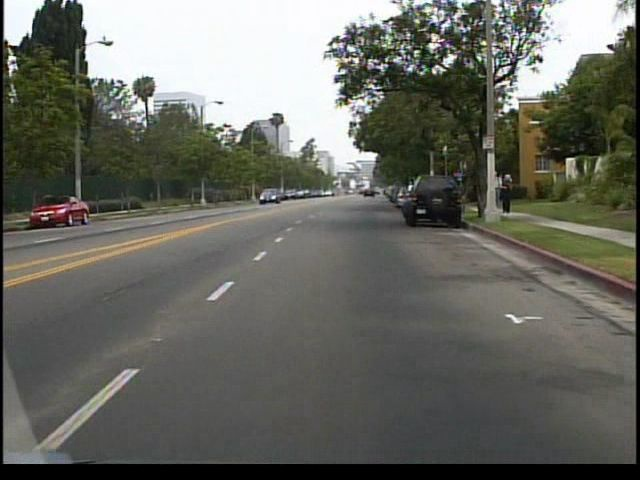person: (498, 172, 516, 217), (486, 166, 503, 213)
